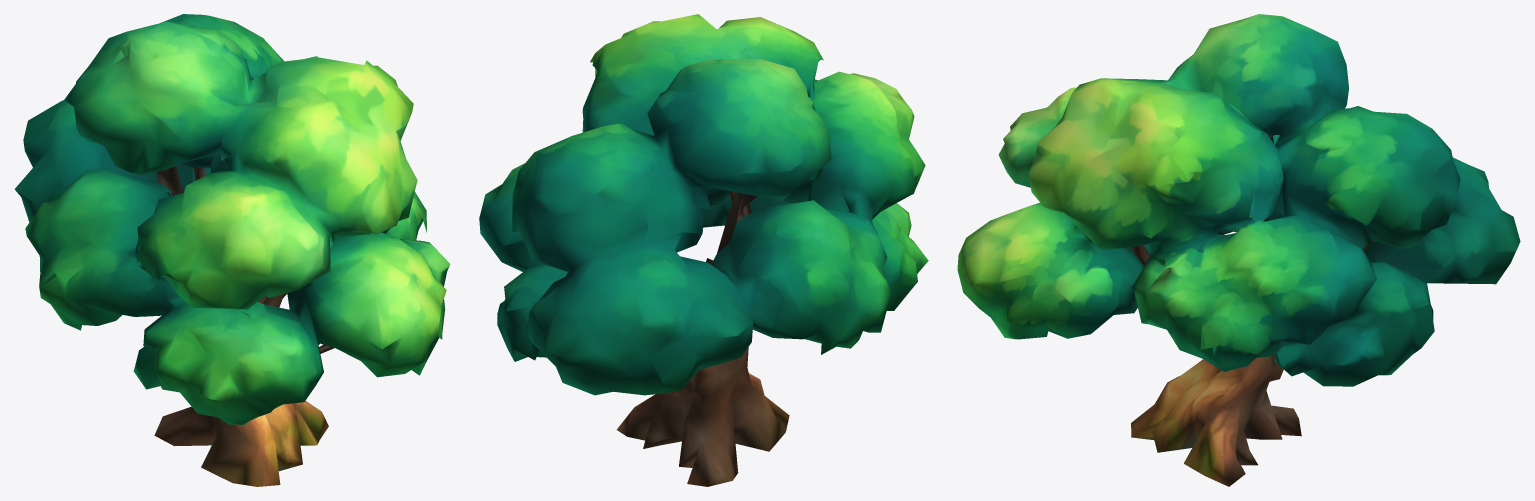
File: model_raw.glb
3 renders of one model, left to right at view 1: azimuth 30°, elevation 25°; view 2: azimuth 150°, elevation 25°; view 3: azimuth 270°, elevation 25°, orthographic. The views are drawn at different scales.
Parts seen in each view (by area): view 1: tripo_node_995c5cce-f555-4531-8799-c620462fe3c5; view 2: tripo_node_995c5cce-f555-4531-8799-c620462fe3c5; view 3: tripo_node_995c5cce-f555-4531-8799-c620462fe3c5.
Part boxes in pixels (bbox=[...]): tripo_node_995c5cce-f555-4531-8799-c620462fe3c5: bbox=[14, 14, 450, 486]; tripo_node_995c5cce-f555-4531-8799-c620462fe3c5: bbox=[479, 14, 928, 486]; tripo_node_995c5cce-f555-4531-8799-c620462fe3c5: bbox=[957, 14, 1520, 486].
Bounding box in the file's own units: 0.7337 × 0.7814 × 1.
1 material, 1 textured.
